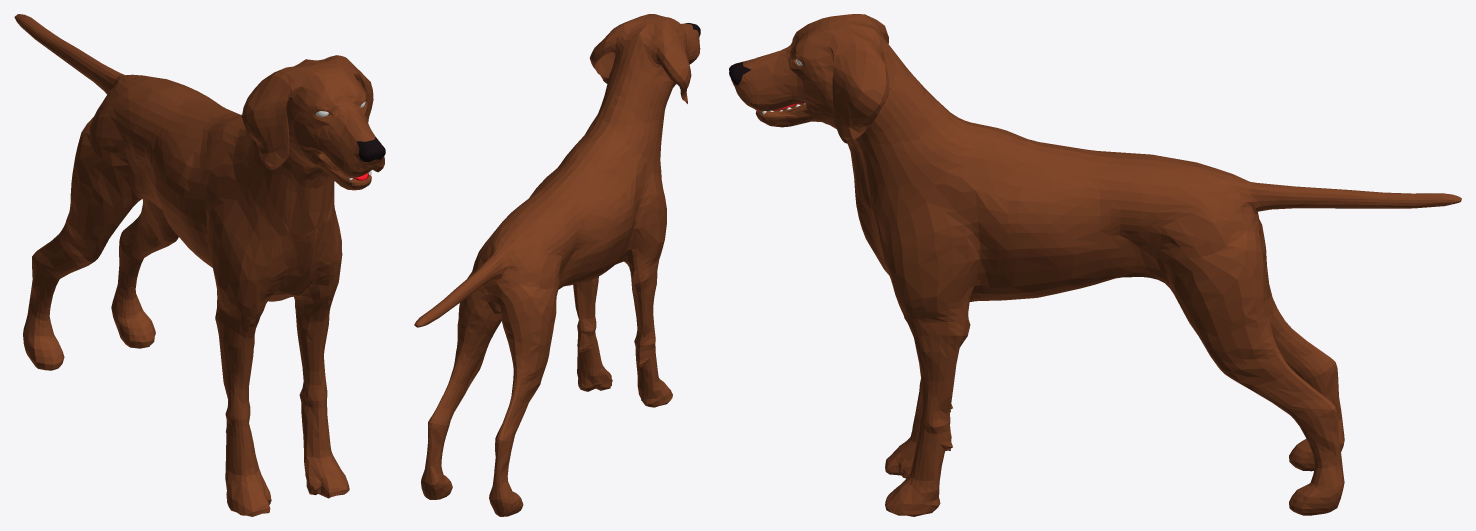
File: perro.obj
The picture shows the model from 3 angles, left to right: view 1: azimuth 30°, elevation 25°; view 2: azimuth 150°, elevation 25°; view 3: azimuth 270°, elevation 25°; orthographic projection. The views are drawn at different scales.
Visible parts, largest first — view 1: dog_kurtshaar_grey, nariz; view 2: dog_kurtshaar_grey; view 3: dog_kurtshaar_grey.
Boxes of the visible parts, x1=… form: dog_kurtshaar_grey: x1=14, y1=14, x2=384, y2=516; nariz: x1=357, y1=137, x2=385, y2=162; dog_kurtshaar_grey: x1=414, y1=14, x2=700, y2=516; dog_kurtshaar_grey: x1=731, y1=14, x2=1461, y2=516.
Size of the model in its own units: 2.12 by 7.55 by 10.7.
Materials: 5 (5 with a texture image).
